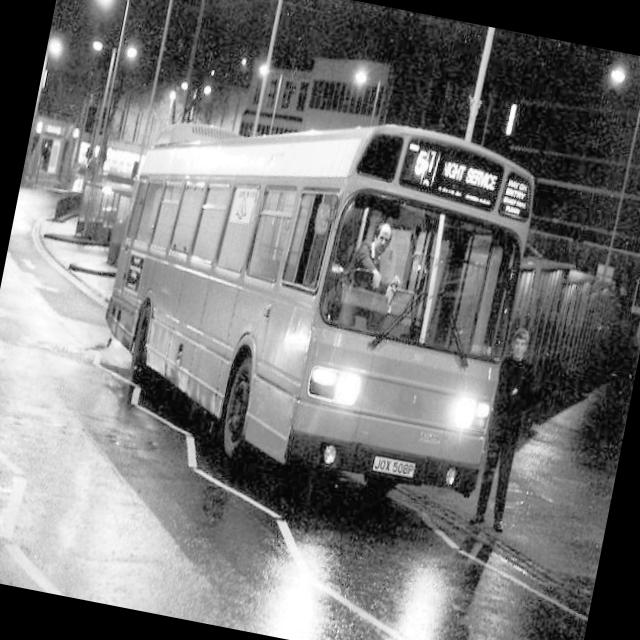Bus: (41, 81, 588, 596)
